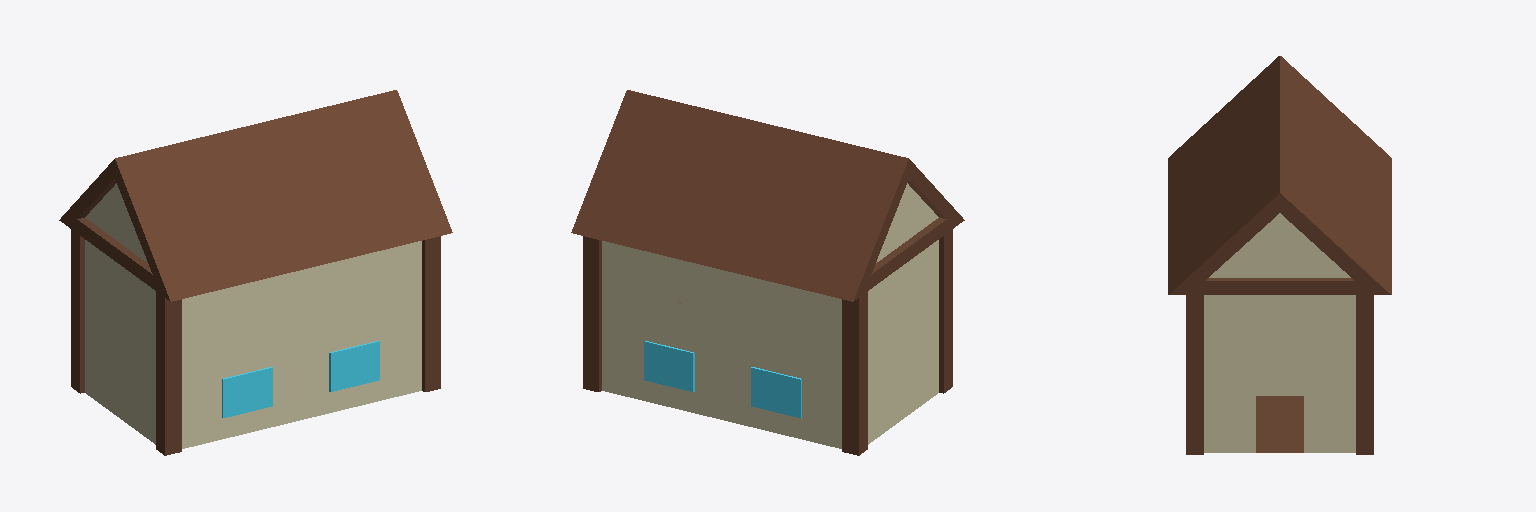
3 renders of one model, left to right at view 1: azimuth 30°, elevation 25°; view 2: azimuth 150°, elevation 25°; view 3: azimuth 270°, elevation 25°, orthographic.
Visible parts, largest first — view 1: SuburbanHouse_Cube.010; view 2: SuburbanHouse_Cube.010; view 3: SuburbanHouse_Cube.010.
Part boxes in pixels (bbox=[...]): SuburbanHouse_Cube.010: bbox=[59, 90, 452, 455]; SuburbanHouse_Cube.010: bbox=[571, 90, 964, 455]; SuburbanHouse_Cube.010: bbox=[1168, 56, 1391, 454].
Size of the model in its own units: 34.66 by 31 by 23.77.
1 materials, 1 textured.